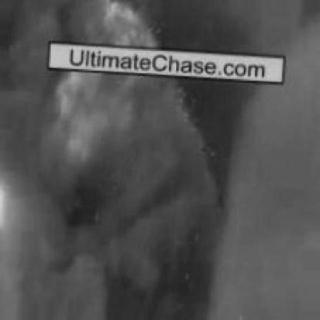Smoke: (107, 121, 305, 307)
